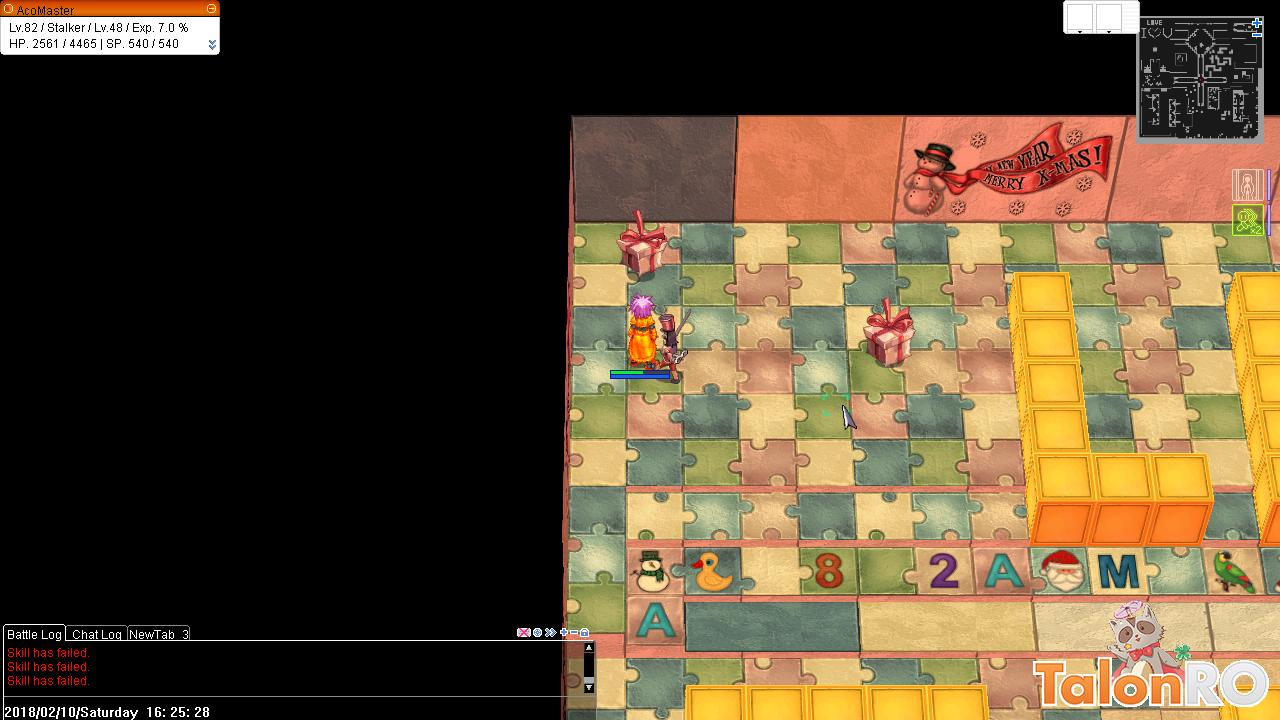mob: (659, 303, 702, 383)
myst_case: (855, 292, 920, 372), (617, 204, 669, 284)
